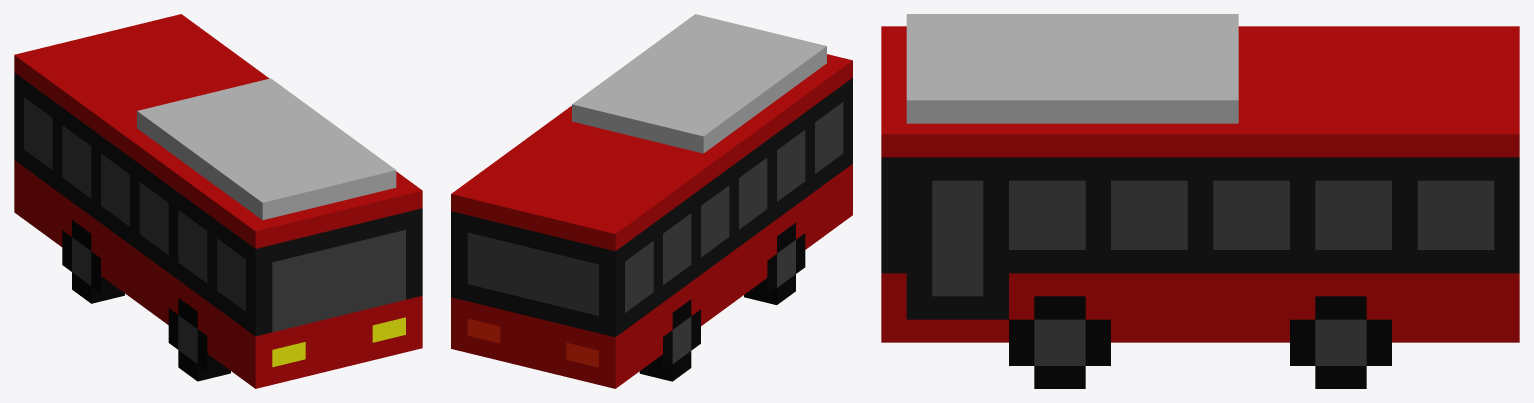
Rendered from Bus_red_obj.obj.
3 renders of one model, left to right at view 1: azimuth 30°, elevation 25°; view 2: azimuth 150°, elevation 25°; view 3: azimuth 270°, elevation 25°, orthographic. The views are drawn at different scales.
Parts seen in each view (by area): view 1: 立方体.049; view 2: 立方体.049; view 3: 立方体.049.
Part boxes in pixels (x1,y1,x2,y2): 立方体.049: [14, 14, 422, 388]; 立方体.049: [451, 14, 852, 388]; 立方体.049: [881, 14, 1519, 388].
Size of the model in its own units: 10 by 12 by 25.
